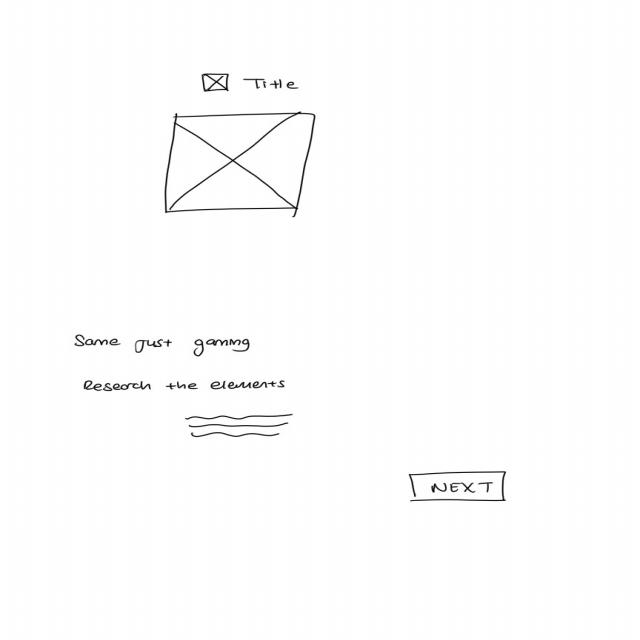button: (408, 471, 509, 505)
image: (163, 113, 318, 215), (200, 74, 233, 95)
label: (74, 334, 252, 358), (83, 380, 292, 393), (243, 79, 302, 92)
textbox: (185, 413, 296, 440)
